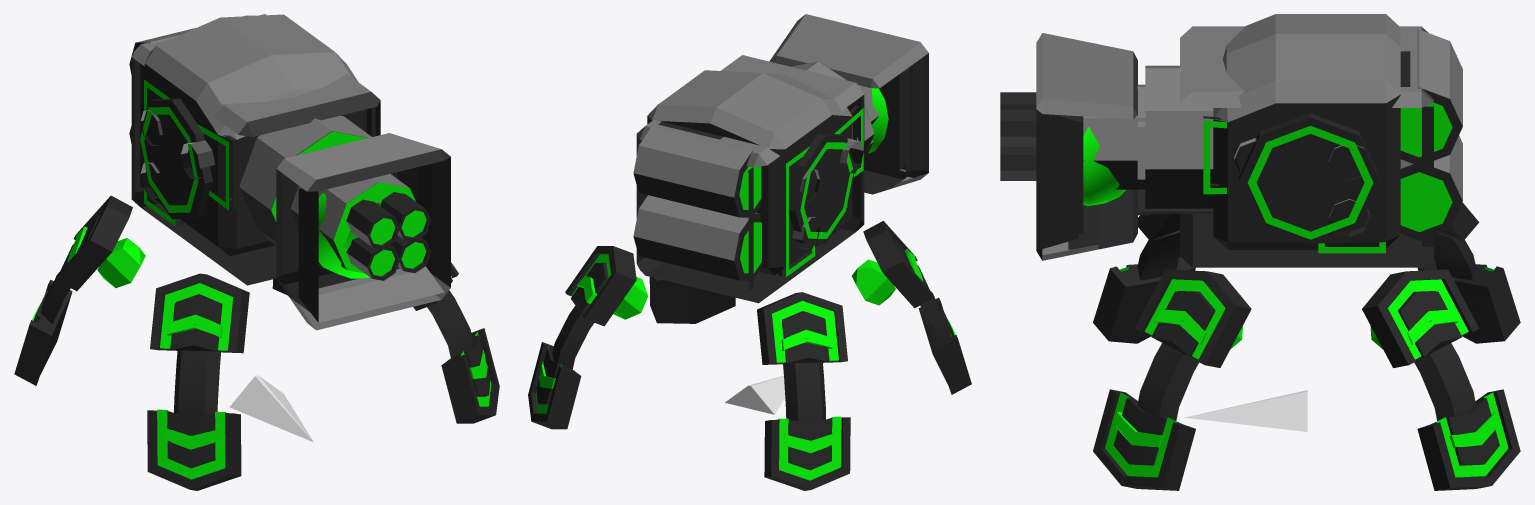
3 renders of one model, left to right at view 1: azimuth 30°, elevation 25°; view 2: azimuth 150°, elevation 25°; view 3: azimuth 270°, elevation 25°, orthographic. The views are drawn at different scales.
Parts seen in each view (by area): view 1: Gun_body, Camera_body, leg1, leg3, Gun_guns, leg2, ROOT; view 2: Gun_body, Camera_body, leg3, leg4, leg1, leg2, ROOT; view 3: Gun_body, Camera_body, leg4, leg2, leg1, leg3, Gun_guns, ROOT.
Boxes of the visible parts, x1=… form: Gun_body: x1=129, y1=14, x2=415, y2=273; Camera_body: x1=131, y1=14, x2=450, y2=330; leg1: x1=147, y1=273, x2=249, y2=490; leg3: x1=14, y1=195, x2=145, y2=385; Gun_guns: x1=346, y1=192, x2=431, y2=280; leg2: x1=413, y1=262, x2=499, y2=423; ROOT: x1=229, y1=375, x2=313, y2=442; Gun_body: x1=633, y1=61, x2=879, y2=280; Camera_body: x1=636, y1=14, x2=928, y2=303; leg3: x1=757, y1=292, x2=850, y2=490; leg4: x1=528, y1=246, x2=648, y2=429; leg1: x1=852, y1=221, x2=971, y2=394; leg2: x1=649, y1=277, x2=735, y2=323; ROOT: x1=725, y1=375, x2=785, y2=414; Gun_body: x1=1083, y1=14, x2=1462, y2=249; Camera_body: x1=1036, y1=26, x2=1433, y2=267; leg4: x1=1362, y1=269, x2=1520, y2=490; leg2: x1=1093, y1=269, x2=1251, y2=490; leg1: x1=1093, y1=214, x2=1195, y2=343; leg3: x1=1417, y1=202, x2=1520, y2=343; Gun_guns: x1=1000, y1=92, x2=1036, y2=180; ROOT: x1=1185, y1=390, x2=1307, y2=431.
Bounding box in the file's own units: 327 × 316 × 389.
